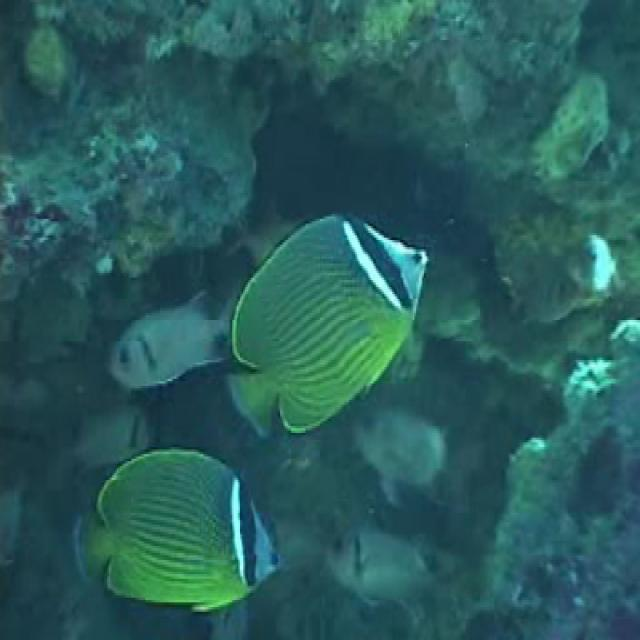ButterflyFish: (232, 218, 426, 436), (78, 457, 288, 614)
